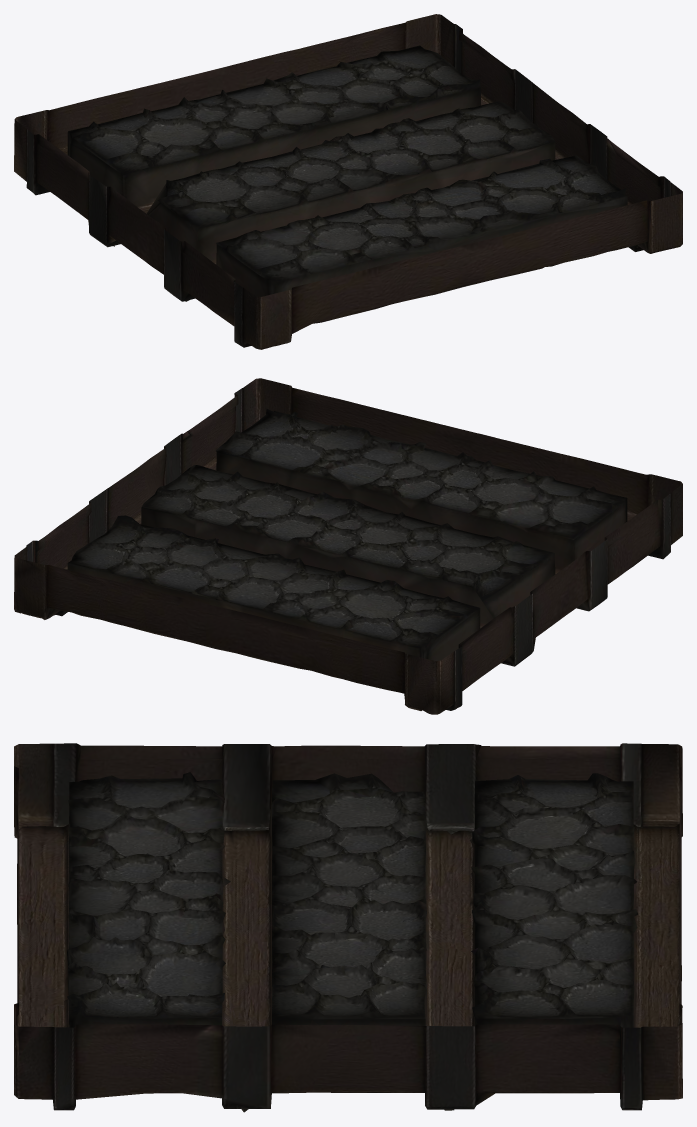
The model's file is Ceiling_cobblewood.fbx.
3 views of the same model, one above another, from view 1: azimuth 30°, elevation 25°; view 2: azimuth 150°, elevation 25°; view 3: azimuth 270°, elevation 25° (orthographic). The views are drawn at different scales.
Parts seen in each view (by area): view 1: Ceiling_cobble_wWood; view 2: Ceiling_cobble_wWood; view 3: Ceiling_cobble_wWood.
Boxes of the visible parts, x1=… form: Ceiling_cobble_wWood: x1=14, y1=14, x2=682, y2=349; Ceiling_cobble_wWood: x1=14, y1=378, x2=682, y2=714; Ceiling_cobble_wWood: x1=14, y1=743, x2=682, y2=1112.
Bounding box in the file's own units: 306 × 46.21 × 303.
1 material, 1 textured.
